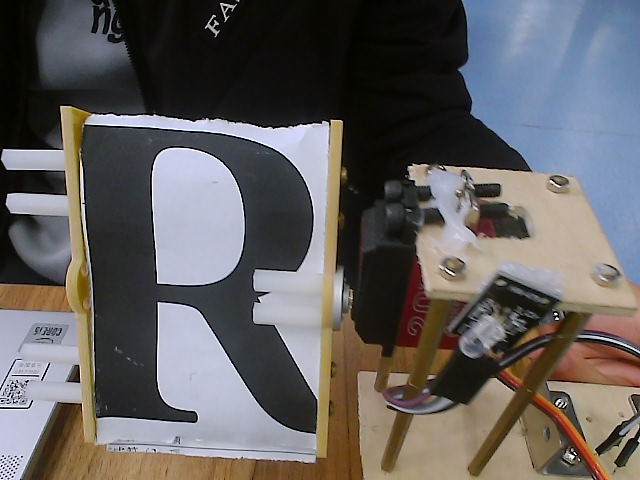R: (1, 80, 361, 473)
